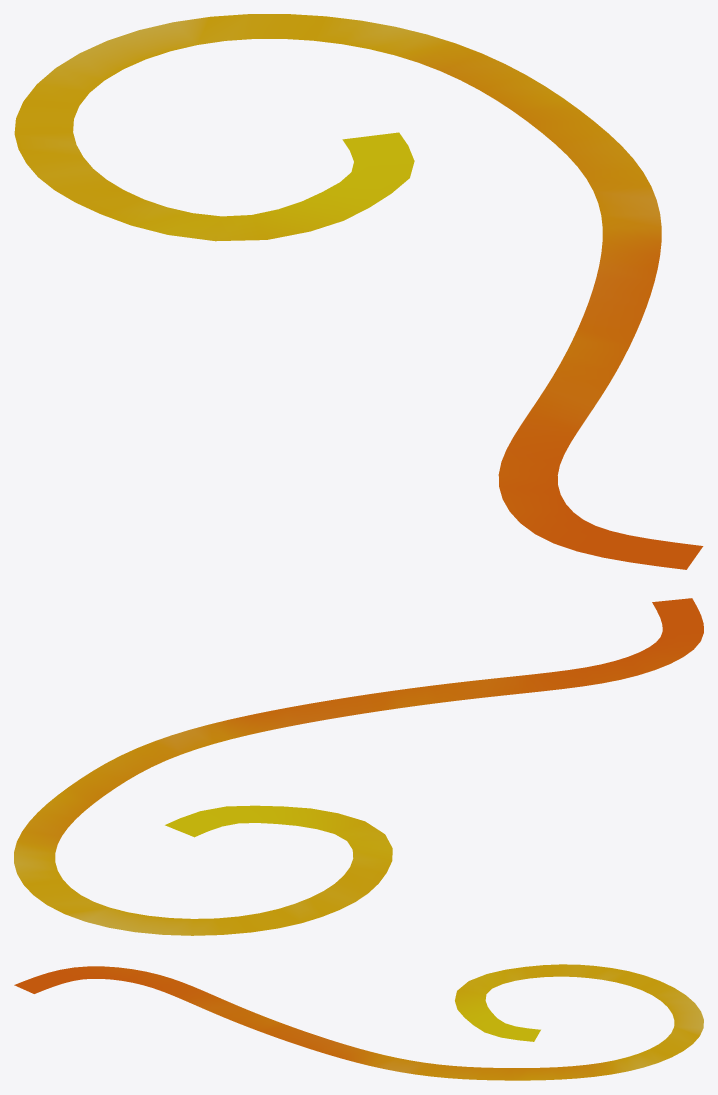
File: Swirl01.fbx
The picture shows the model from 3 angles, top to bottom: view 1: azimuth 30°, elevation 25°; view 2: azimuth 150°, elevation 25°; view 3: azimuth 270°, elevation 25°; orthographic projection. The views are drawn at different scales.
Visible parts, largest first — view 1: extrudedSurface1; view 2: extrudedSurface1; view 3: extrudedSurface1.
Part boxes in pixels (x1,y1,x2,y2): extrudedSurface1: (14, 14, 703, 569); extrudedSurface1: (14, 598, 703, 935); extrudedSurface1: (14, 964, 703, 1080).
Bounding box in the file's own units: 19.14 × 0 × 48.05.
